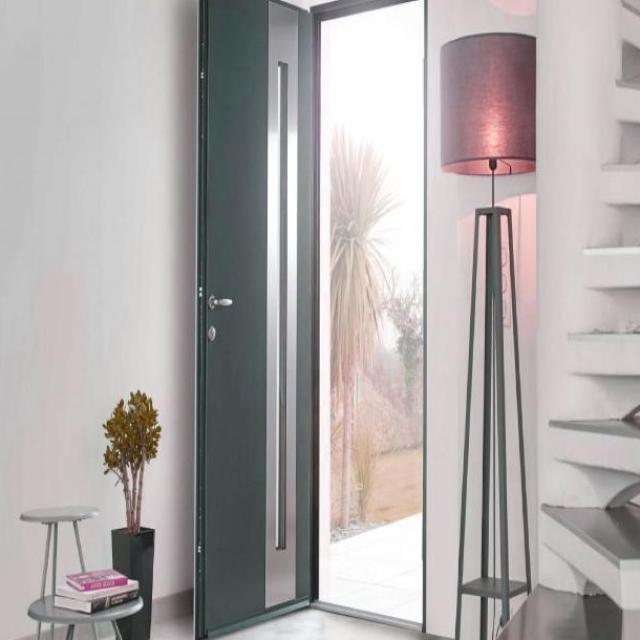door: (194, 0, 316, 638)
